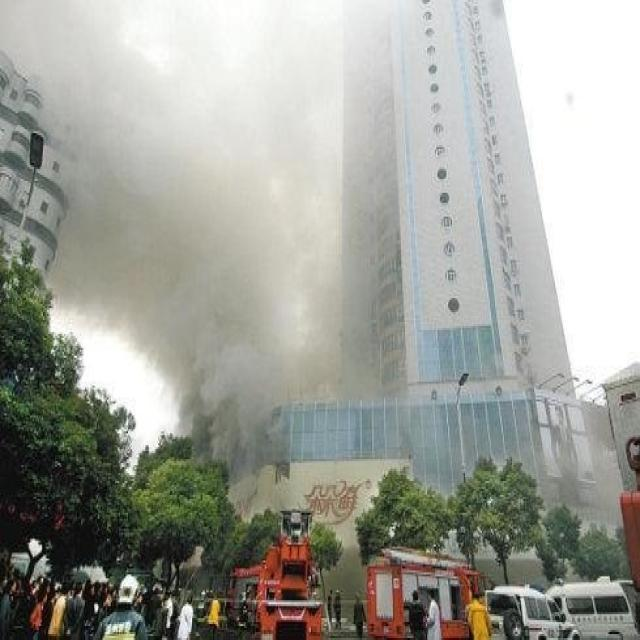Smoke: (2, 2, 390, 483)
